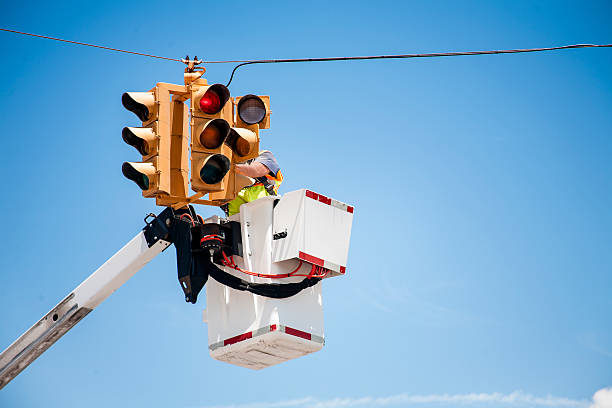Traffic Signal: (190, 75, 272, 193), (118, 78, 180, 202)
